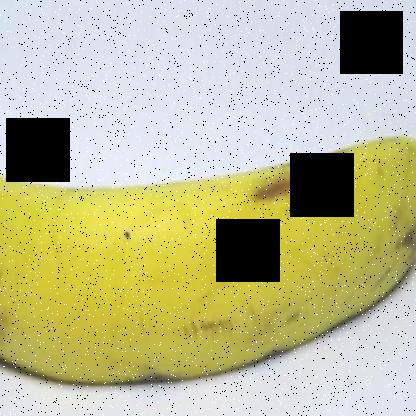freshripe: (1, 107, 415, 410)
